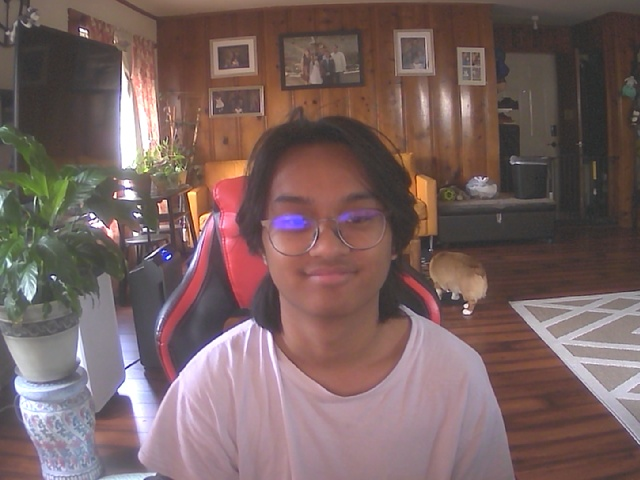happy: (254, 122, 407, 322)
